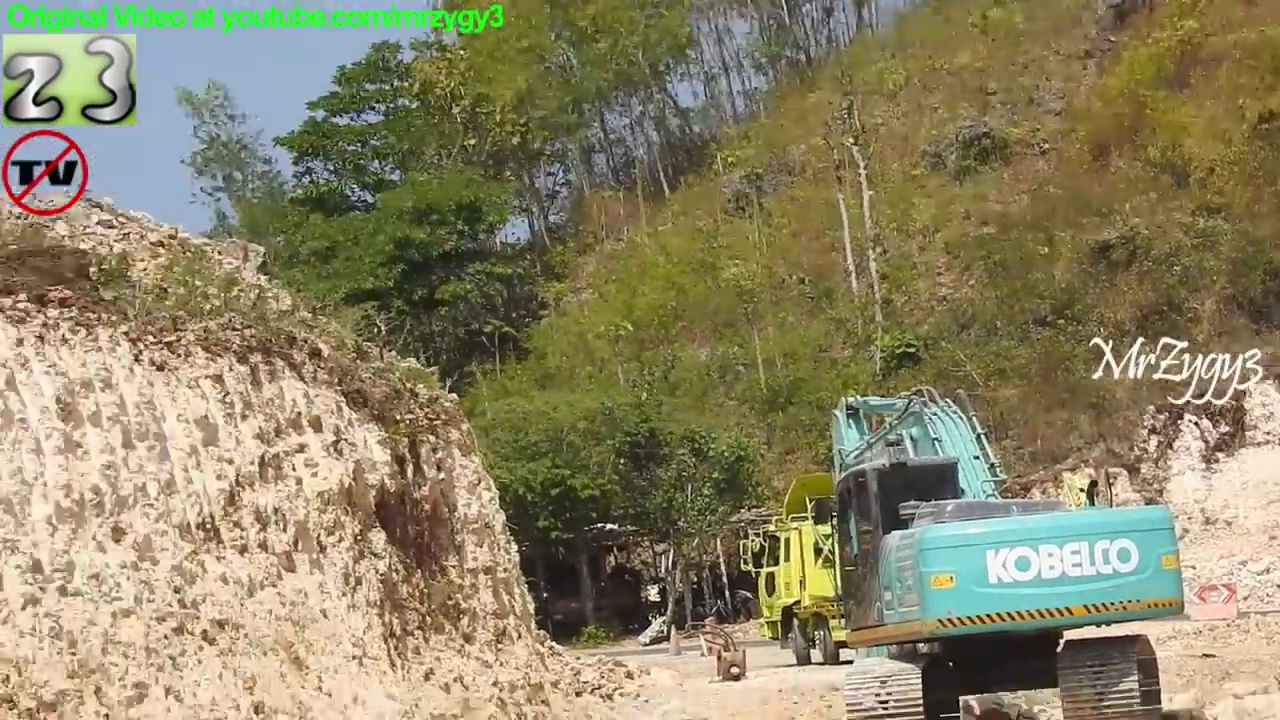excavator: (805, 379, 1197, 720)
truck: (737, 469, 1130, 669)
